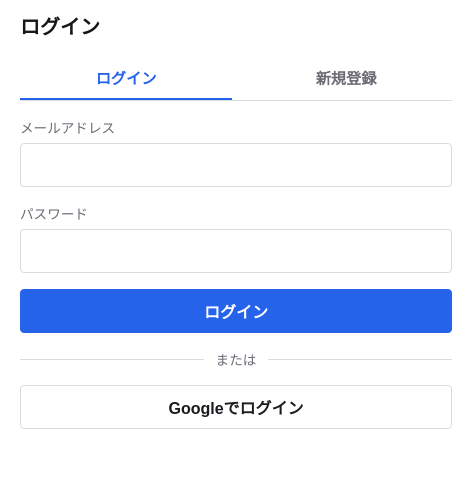
Test: LoginForm › ログイン › ログイン失敗時は role=alert で日本語エラーメッセージを表示し、遷移しない
Step 1. Type "taro@example.com" into the field labelled "メールアドレス" → {"x": 236, "y": 165}, box 20,143 -> 452,187
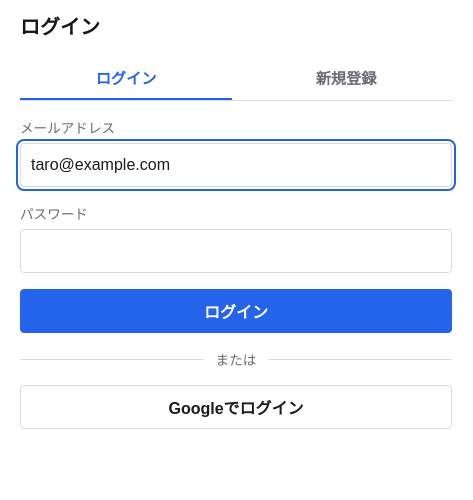
Step 2. Type "wrongpass" into the password field labelled "パスワード" → {"x": 236, "y": 251}, box 20,229 -> 452,273
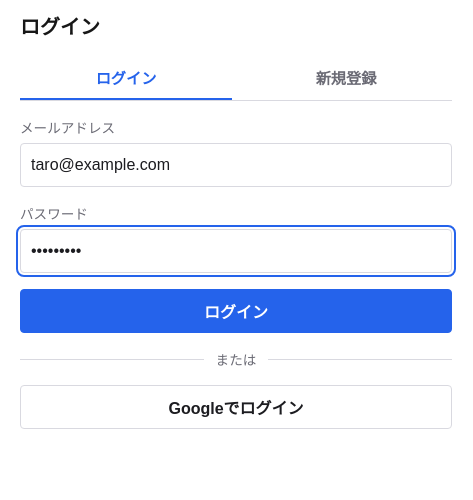
Step 3. Click the button "ログイン" → {"x": 236, "y": 311}, box 20,289 -> 452,333
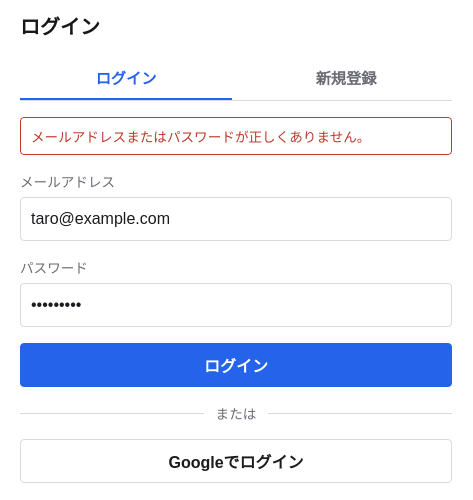
Expected: the message reads "メールアドレスまたはパスワードが正しくありません。", 31,127 -> 370,146
